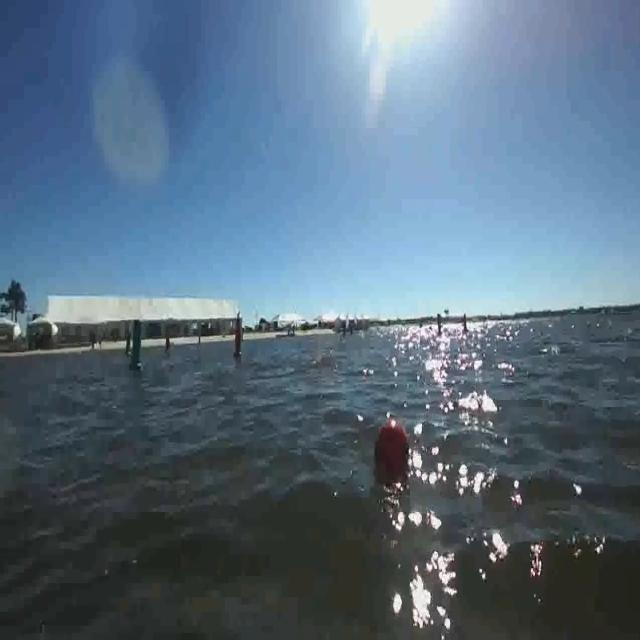green-column-buoy: (128, 319, 148, 372)
red-buoy: (374, 415, 411, 473)
red-column-buoy: (233, 318, 247, 360)
